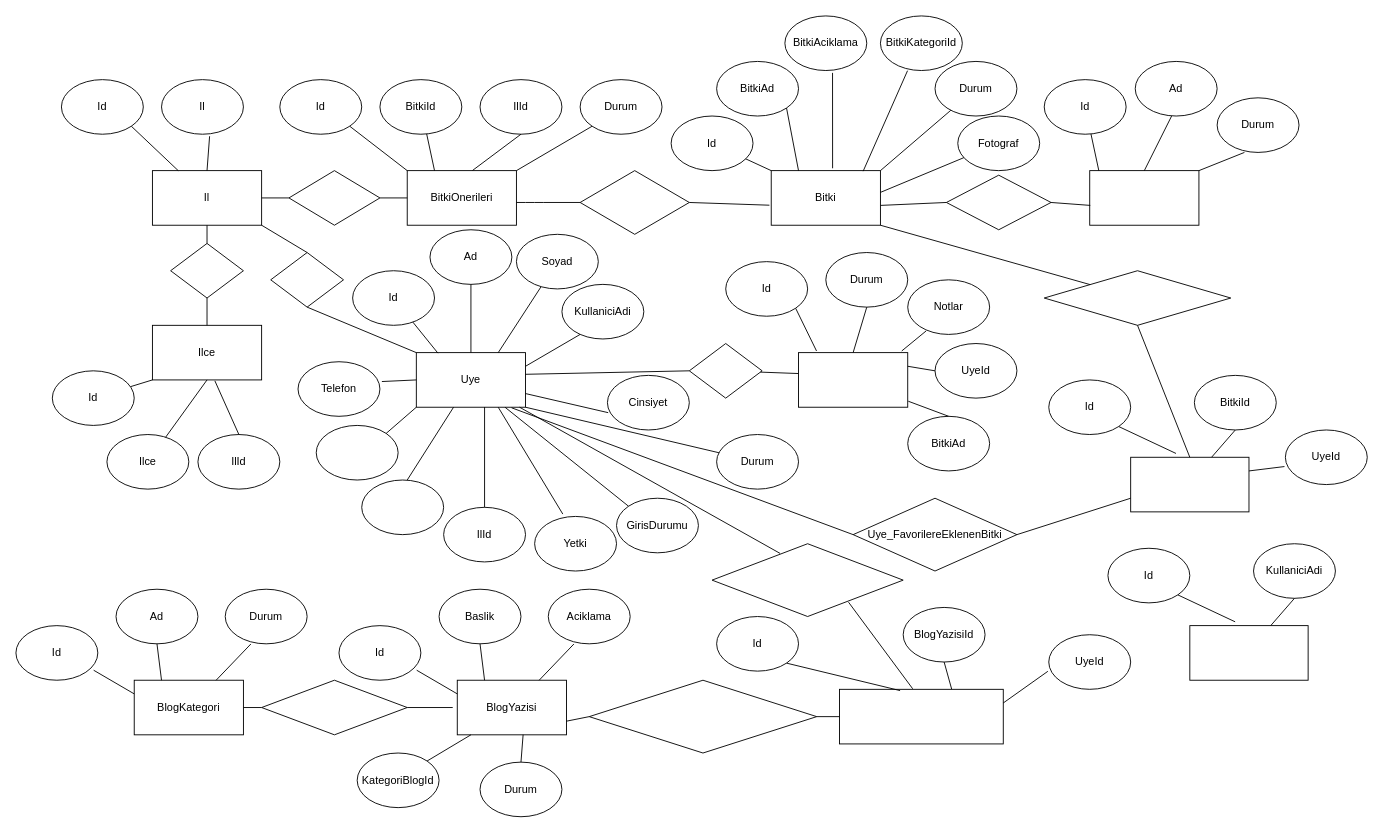
This 1383x833 diagram has some shape labels left out. Each missing label, with the centre of its shape:
BenimBahcem: point 853,379
Bitki_BitkiKategori: point 998,202
Bitki_FavorilereEklenenBitki: point 1137,297
BitkiKategori: point 1144,197
BitkiOnerileri_Bitki: point 634,202
BlogKategori_BlogYazisi: point 334,707
BlogYazisi_FavorilereEklenenBlogYazisi: point 702,716
Eposta: point 356,452
FavorilereEklenenBitki: point 1189,484
FavorilereEklenenBlogYazisi: point 921,716
Il_BitkiOnerileri: point 334,197
Il_Ilce: point 206,270
Il_Uye: point 307,279
Sifre: point 402,507
Uye_FavorilereEklenenBlogYazisi: point 807,580
Uye_Il: point 725,370
VeritabaniLoglari: point 1248,652
